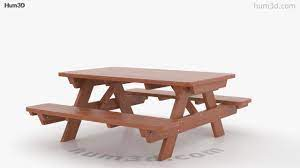obstacle: (25, 62, 254, 160)
